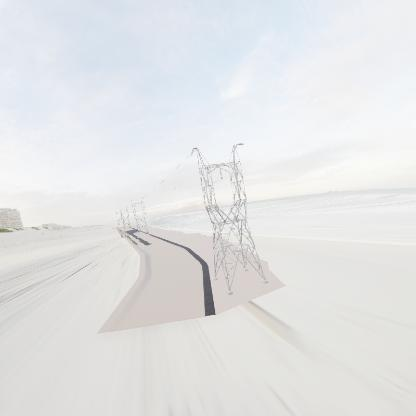tower: (188, 141, 270, 298)
